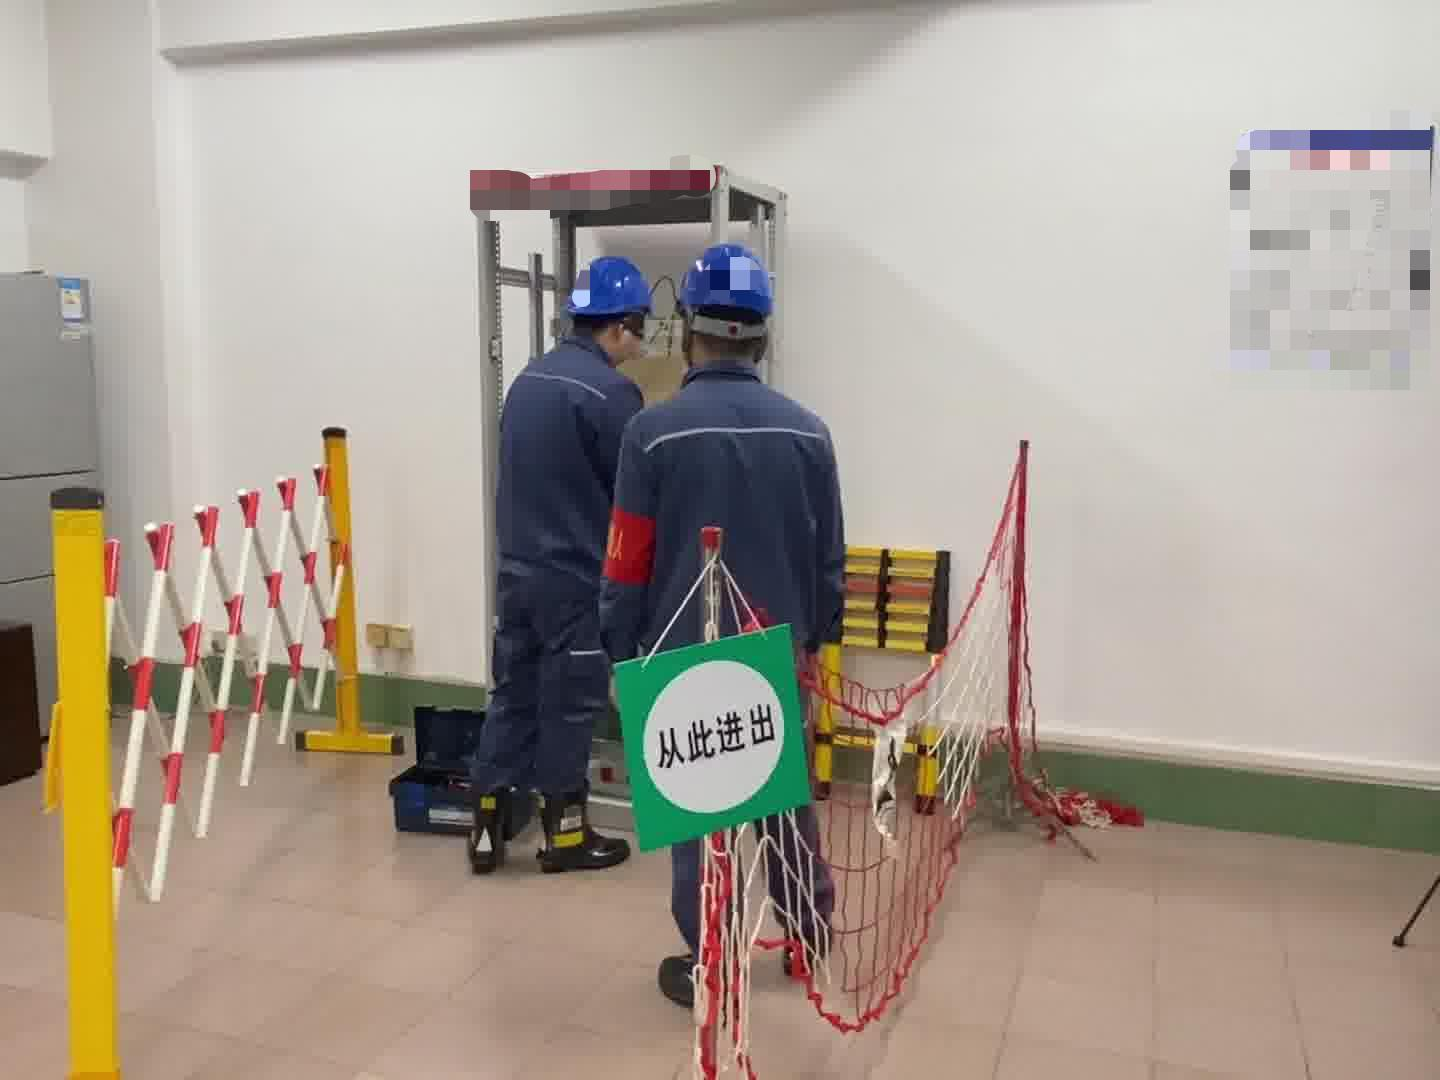halt: (678, 243, 779, 369)
